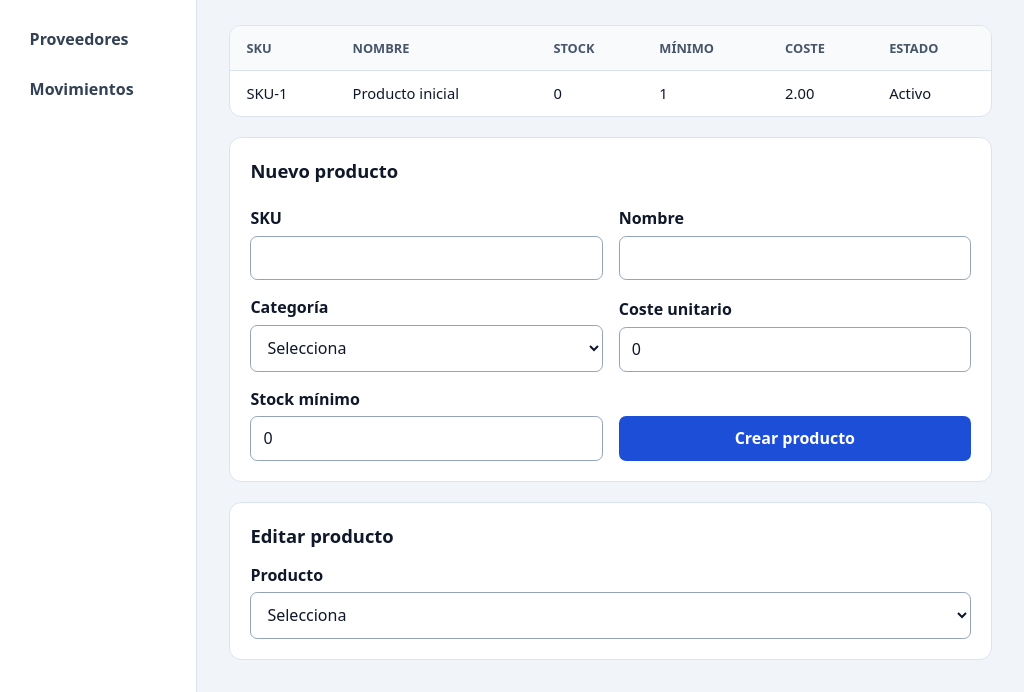
Test: flujos de aplicación › refleja en la tabla el nombre actualizado tras editar un producto
The image size is (1024, 692).
(page scrolled)
Expected: the cell "Producto inicial" is shown, [336,70,537,116]
Select "SKU-1 · Producto inicial" in the dropdown labelled "Producto" at (611,616), box [250,592,971,639]
(page scrolled)
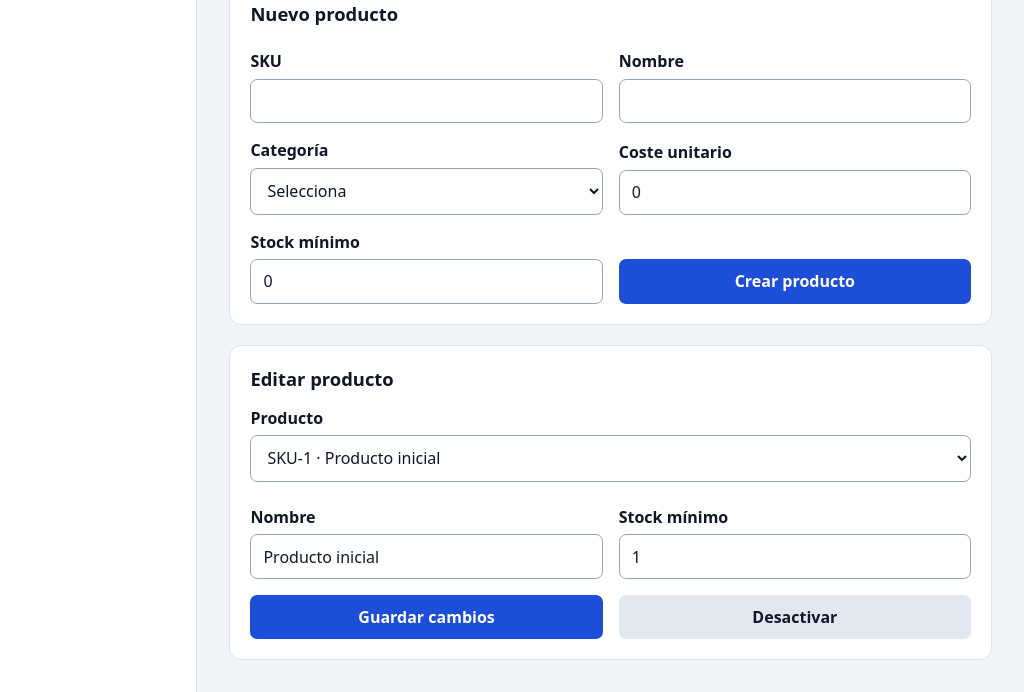
Replace the text in the field labelled "Nombre" below "Editar producto" with "Producto actualizado" at (427,557), box [250,534,603,579]
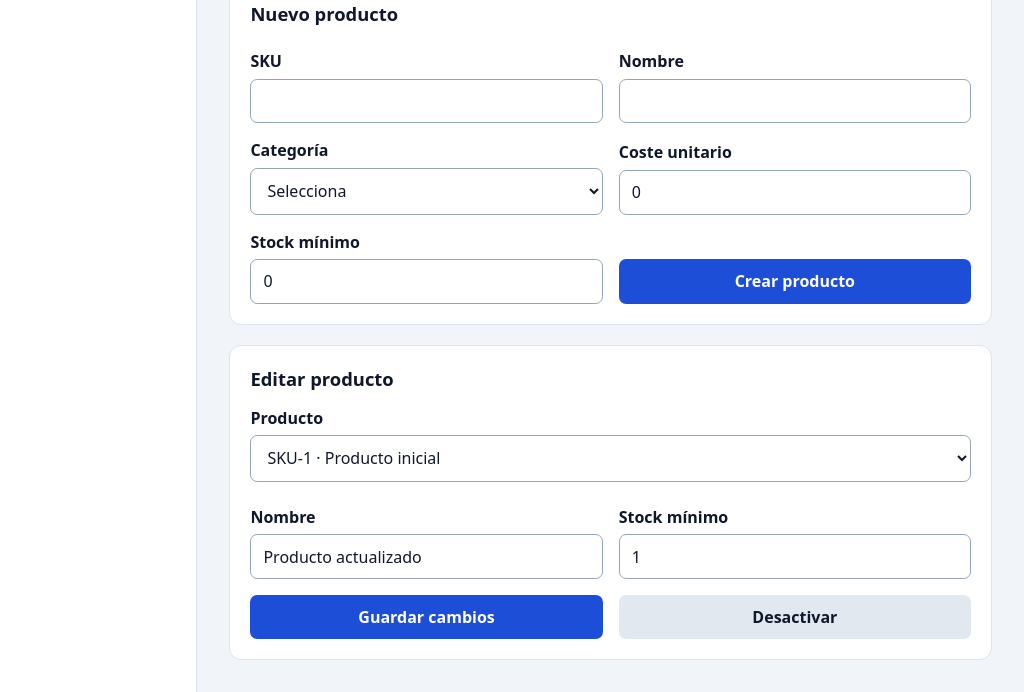
Submit the form "Guardar cambios", box [250,506,971,639]
(page scrolled)
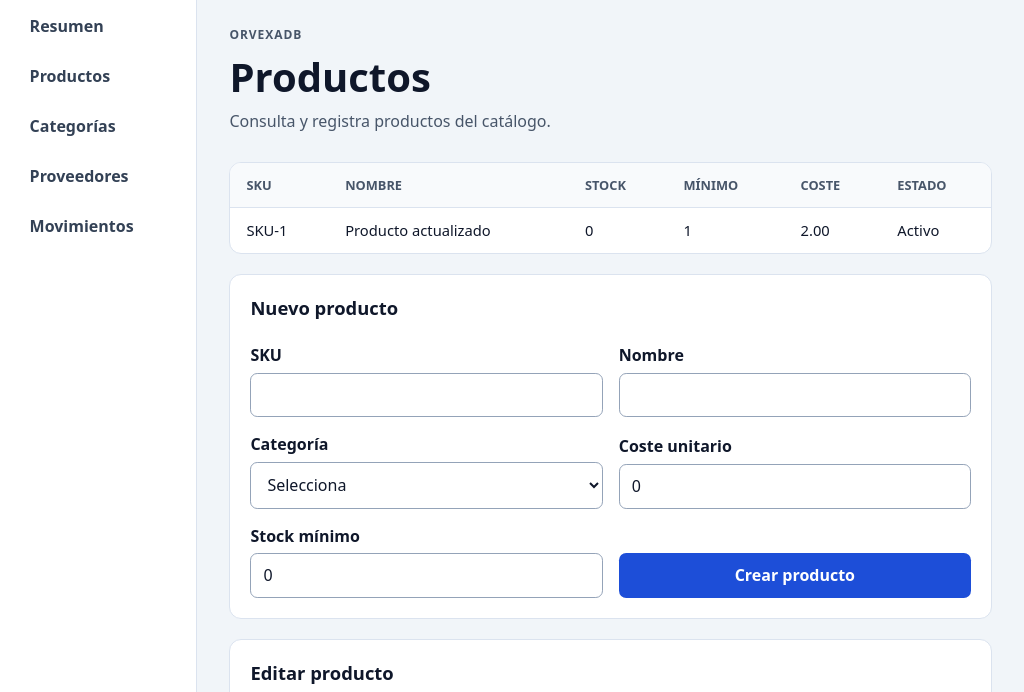
Now the cell "Producto actualizado" is shown, box [329,207,569,253]
